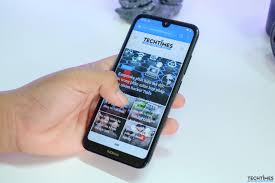nokia: (83, 12, 200, 171)
